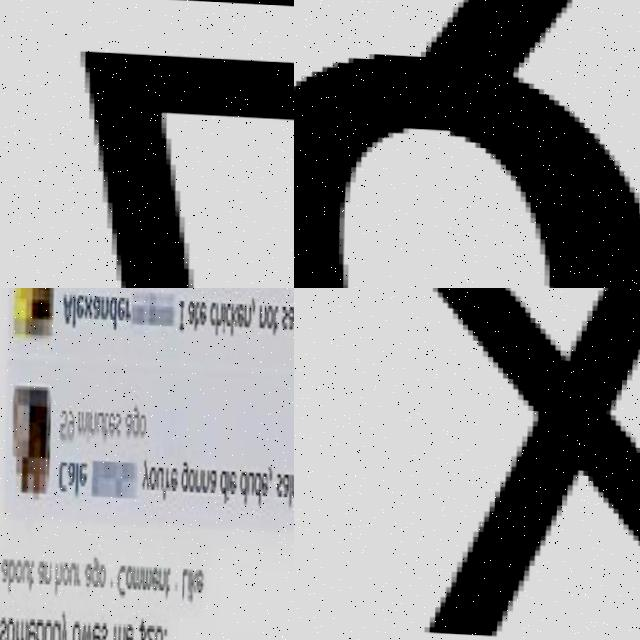1: (59, 408, 67, 437)
5: (67, 407, 75, 440)
A: (61, 292, 72, 325), (90, 290, 101, 319), (286, 297, 294, 330), (83, 558, 92, 587), (186, 295, 195, 324), (67, 460, 75, 487), (209, 465, 217, 492), (281, 469, 289, 495), (0, 556, 7, 583), (124, 410, 131, 436), (37, 556, 43, 582)
B: (7, 559, 14, 595), (34, 616, 43, 640)
C: (115, 562, 126, 596), (57, 460, 67, 493), (224, 298, 231, 324), (207, 299, 215, 321)
D: (253, 467, 262, 504), (218, 467, 227, 503), (108, 294, 117, 330), (238, 468, 246, 505), (50, 618, 62, 640)
E: (77, 459, 88, 488), (197, 295, 207, 324), (235, 297, 244, 326), (194, 565, 204, 591), (115, 293, 125, 319), (169, 463, 178, 490), (89, 620, 101, 640), (260, 466, 268, 495), (123, 621, 134, 640), (26, 618, 35, 640), (74, 293, 83, 315), (151, 563, 158, 589), (229, 468, 237, 490), (107, 411, 115, 433)
G: (180, 458, 188, 491), (131, 400, 138, 436), (92, 553, 99, 586)
H: (54, 559, 62, 596), (215, 301, 222, 334)
I: (178, 297, 184, 330), (222, 299, 226, 332), (186, 564, 189, 600), (226, 467, 229, 501), (86, 409, 89, 442)
K: (230, 300, 237, 336), (189, 567, 196, 601)
L: (65, 48, 294, 288), (181, 564, 187, 600), (74, 462, 78, 495), (288, 470, 291, 506), (292, 300, 294, 336), (73, 294, 75, 327)
M: (14, 616, 27, 640), (131, 563, 141, 590), (111, 622, 125, 640), (141, 566, 151, 588), (76, 410, 86, 432), (291, 468, 294, 495)
N: (99, 292, 108, 318), (201, 465, 209, 491), (89, 406, 96, 433), (44, 556, 51, 582), (194, 465, 201, 491), (243, 299, 250, 325), (258, 301, 265, 327), (158, 565, 164, 591)
O: (4, 614, 15, 640), (69, 620, 81, 640), (187, 464, 195, 491), (42, 619, 52, 640), (148, 462, 156, 488), (14, 559, 22, 583), (138, 410, 145, 437), (61, 560, 68, 582), (98, 564, 105, 586), (266, 302, 273, 324), (125, 565, 131, 587)
Q: (294, 0, 640, 288)
R: (126, 295, 131, 321), (165, 465, 170, 487), (75, 561, 79, 587)
S: (279, 299, 289, 328), (274, 468, 282, 495), (0, 613, 6, 640), (115, 409, 121, 435), (100, 618, 107, 640)
T: (102, 408, 109, 442), (272, 300, 278, 333), (193, 296, 198, 329), (164, 563, 169, 595), (28, 560, 33, 589)
U: (245, 469, 254, 495), (156, 463, 163, 489), (69, 561, 76, 583), (96, 409, 103, 431), (21, 560, 27, 582)
W: (78, 619, 92, 640)
X: (304, 288, 640, 640), (81, 290, 93, 319)
Y: (59, 607, 68, 640), (141, 455, 149, 489)
